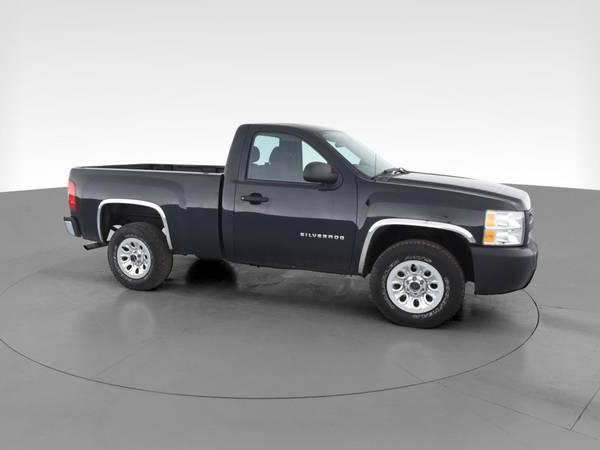Front_Bumper: (471, 238, 537, 297)
Front_Fender: (350, 175, 517, 275)
Front_Right_Door: (219, 179, 353, 271)
Front_Right_Window: (224, 123, 356, 190)
Front_Windshield: (317, 130, 402, 179)
Hood: (372, 166, 531, 207)
Rear_Fender: (68, 168, 224, 258)
Right_Headlight: (481, 211, 527, 248)
Right_Taillight: (67, 179, 76, 215)
Wheel: (370, 238, 465, 328), (105, 222, 171, 291)
